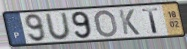9: (24, 13, 47, 43), (71, 11, 93, 40)
K: (117, 9, 141, 36)
O: (94, 9, 119, 39)
T: (141, 7, 161, 35)
U: (44, 12, 73, 42)
